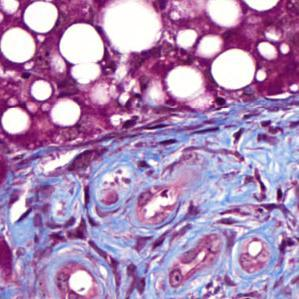steatosis: (209, 48, 257, 90), (60, 23, 104, 68), (20, 2, 61, 31), (2, 27, 35, 59)
